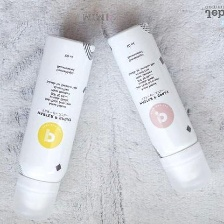aerosol_cans: (102, 19, 217, 197), (8, 28, 100, 222)
